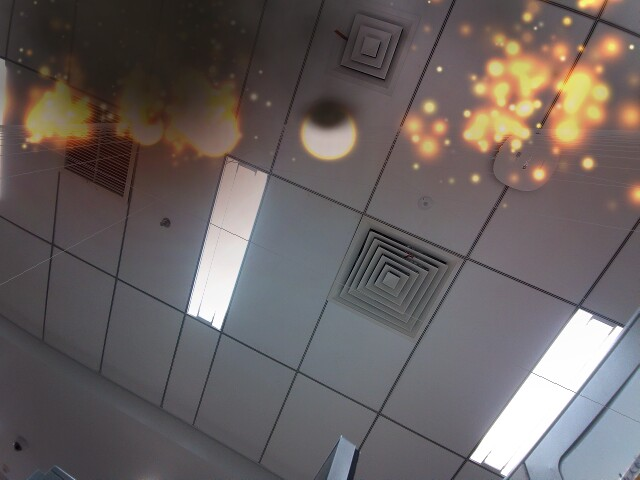fire: (297, 100, 360, 162), (184, 110, 242, 160), (129, 111, 165, 146)
